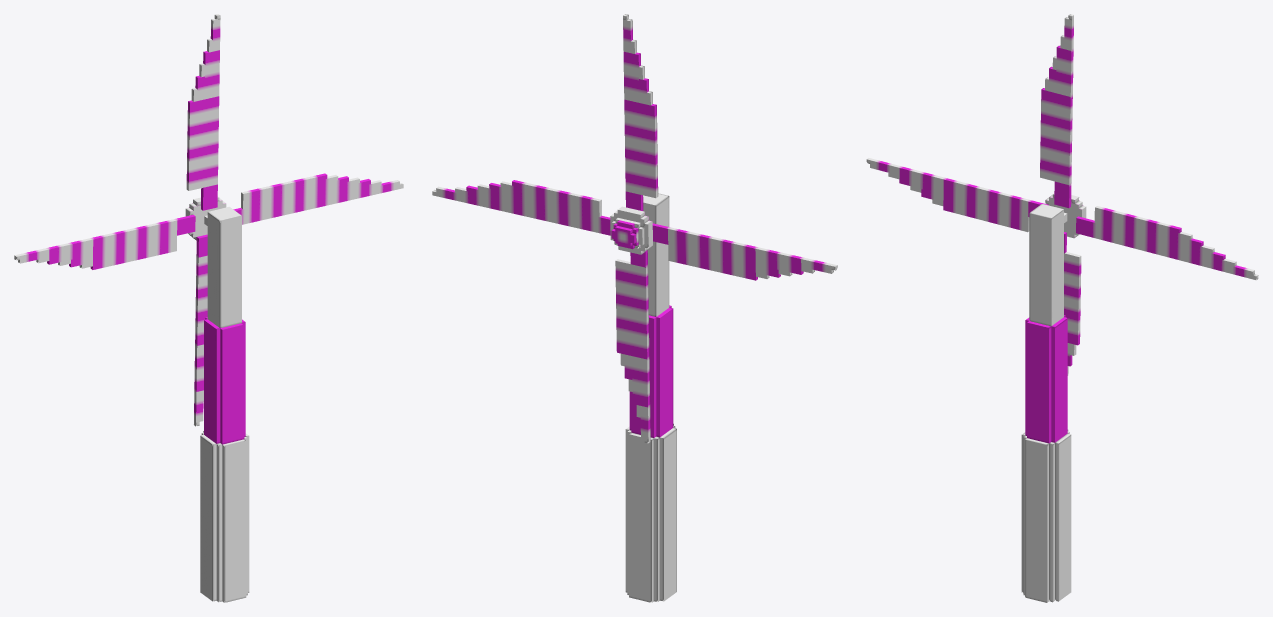
File: wind_turbine_anim.fbx
3 renders of one model, left to right at view 1: azimuth 30°, elevation 25°; view 2: azimuth 150°, elevation 25°; view 3: azimuth 330°, elevation 25°, orthographic. The views are drawn at different scales.
Visible parts, largest first — view 1: base-local, rotors-local; view 2: rotors-local, base-local; view 3: base-local, rotors-local.
Part boxes in pixels (x1,y1,x2,y2): base-local: (200,206,249,602); rotors-local: (14,14,403,426); rotors-local: (432,14,837,443); base-local: (625,193,676,602); base-local: (1021,204,1071,602); rotors-local: (866,14,1258,375).
Size of the model in its own units: 106 by 147 by 18.
2 materials, 2 textured.
